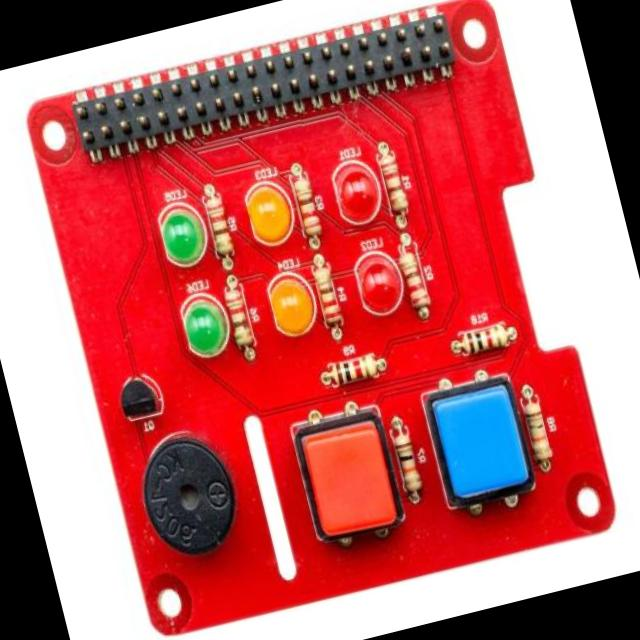LED: (326, 157, 390, 233), (260, 266, 320, 345), (242, 176, 299, 253), (176, 284, 233, 360), (154, 200, 208, 269), (352, 250, 402, 316)
connector: (70, 7, 461, 164)
resistor: (388, 416, 430, 508), (456, 305, 523, 359), (522, 389, 558, 472), (372, 142, 412, 215), (396, 244, 434, 314), (286, 170, 325, 238), (200, 192, 236, 260), (310, 262, 346, 330), (224, 283, 258, 348), (327, 351, 388, 387)
